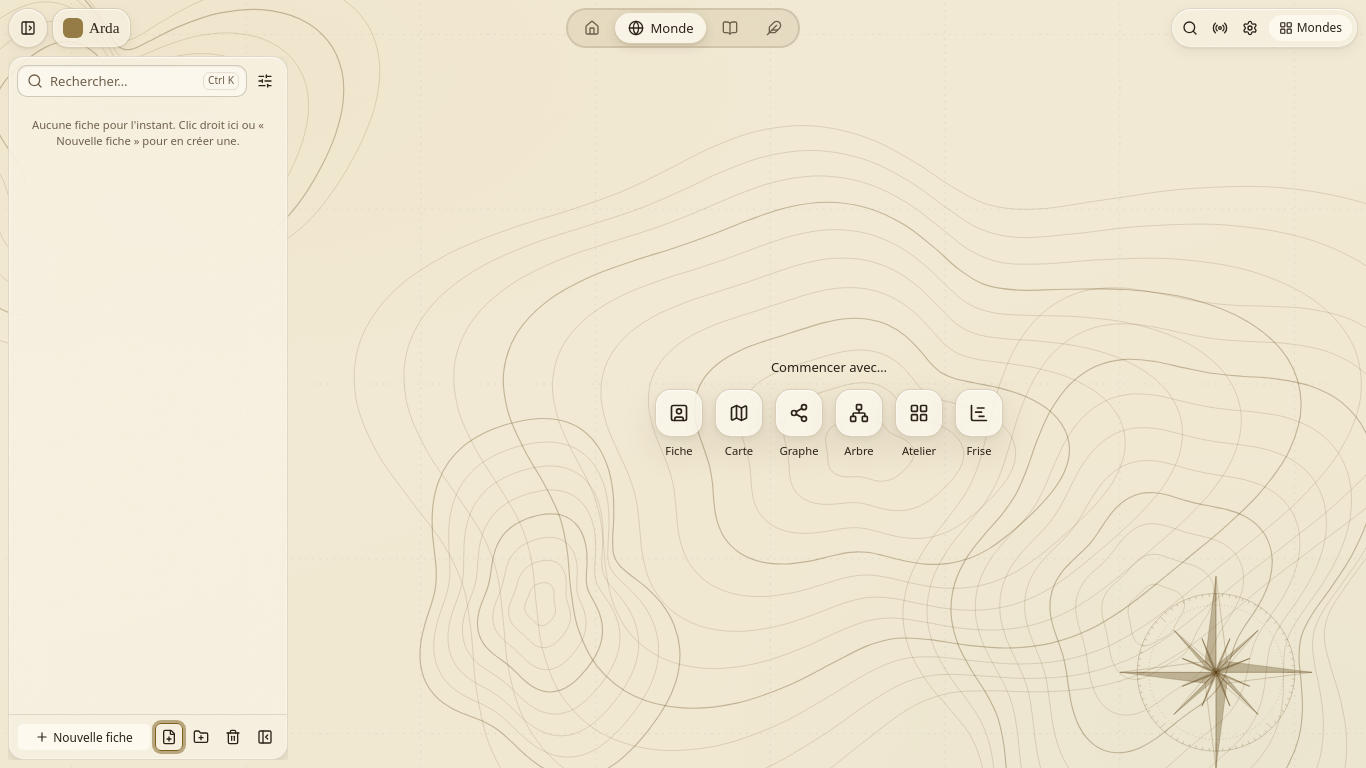
Test case: a map that cannot be created says so, and shows the reason (#200)
Press Enter in the button named "Nouveau document (carte, graphe, arbre, atelier, frise…)", box [155, 723, 183, 751]
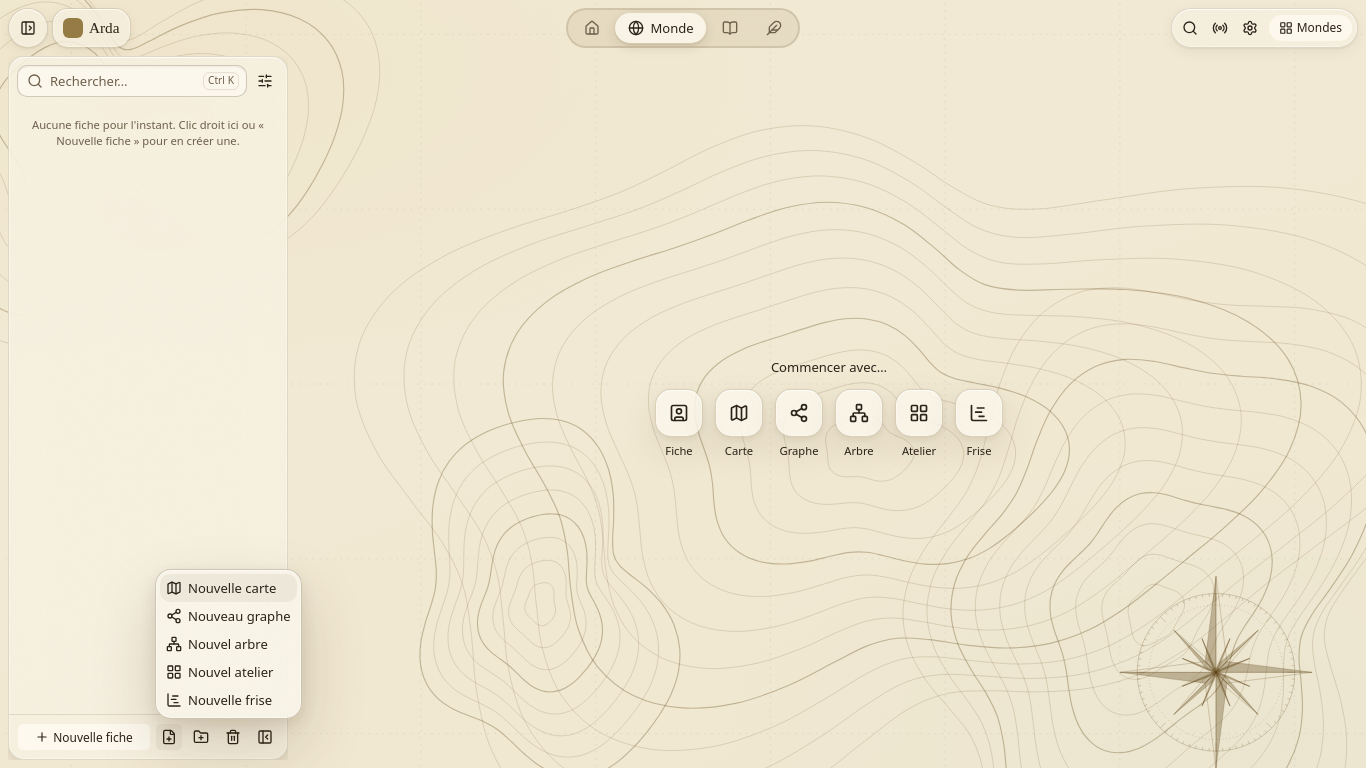
Click the menu item "Nouvelle carte" at (228, 588), box [160, 574, 297, 602]
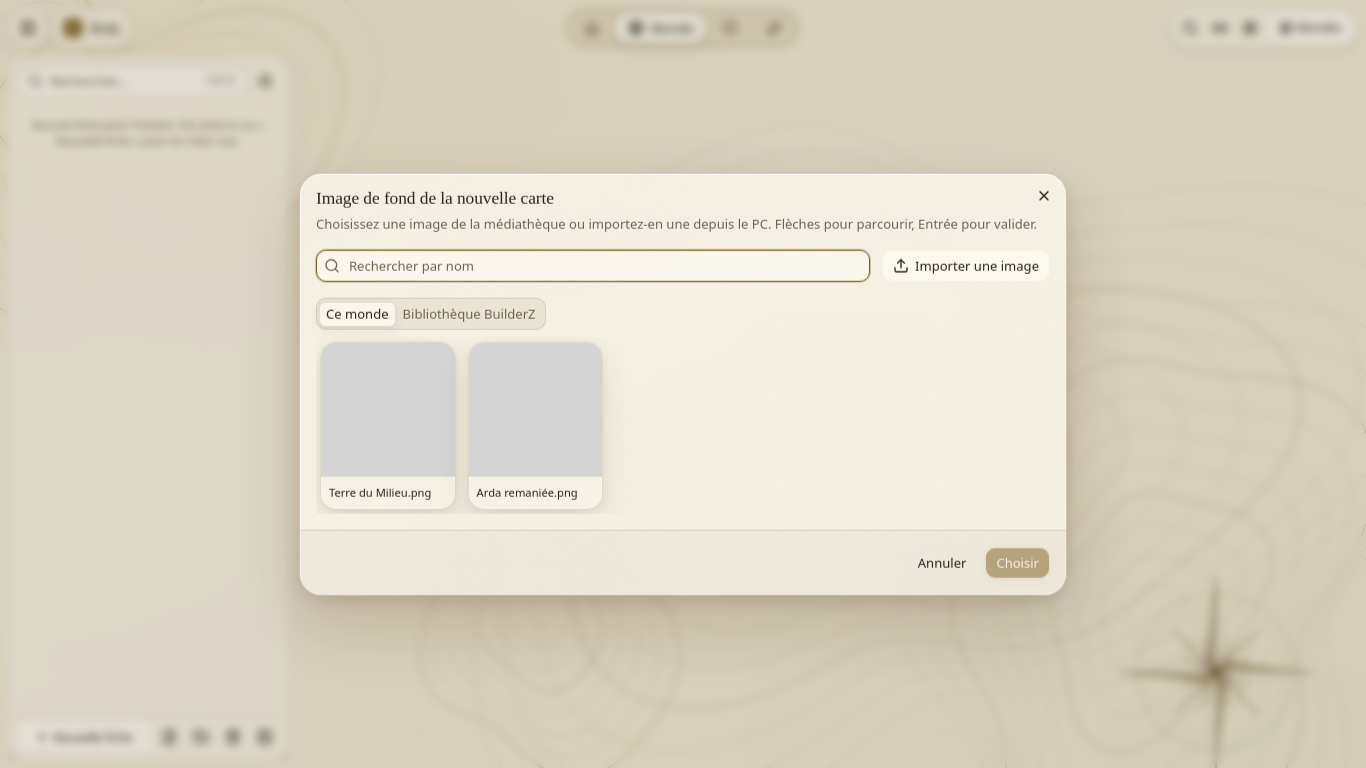
Click the option "Terre du Milieu.png" at (388, 426), box [320, 342, 456, 509]
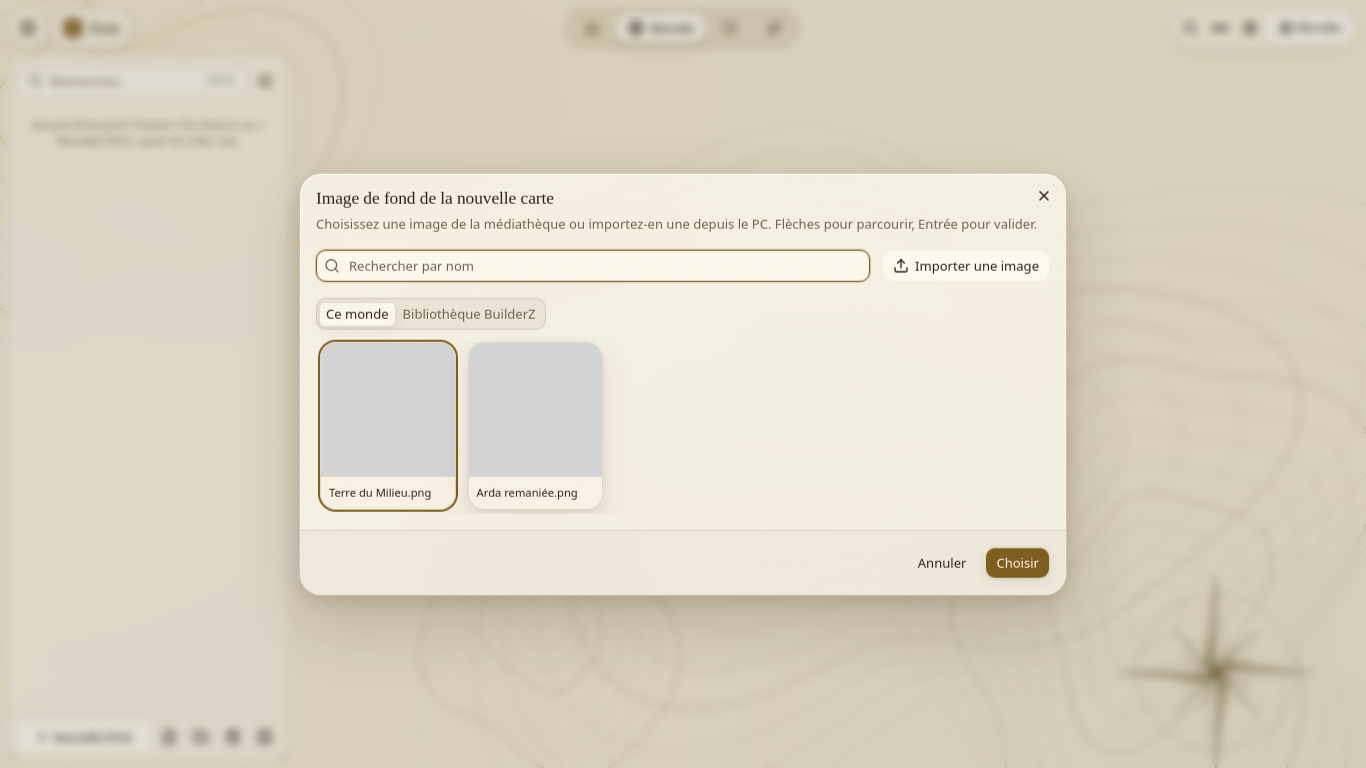
Click the button "Choisir" at (1018, 562), box [985, 546, 1050, 578]
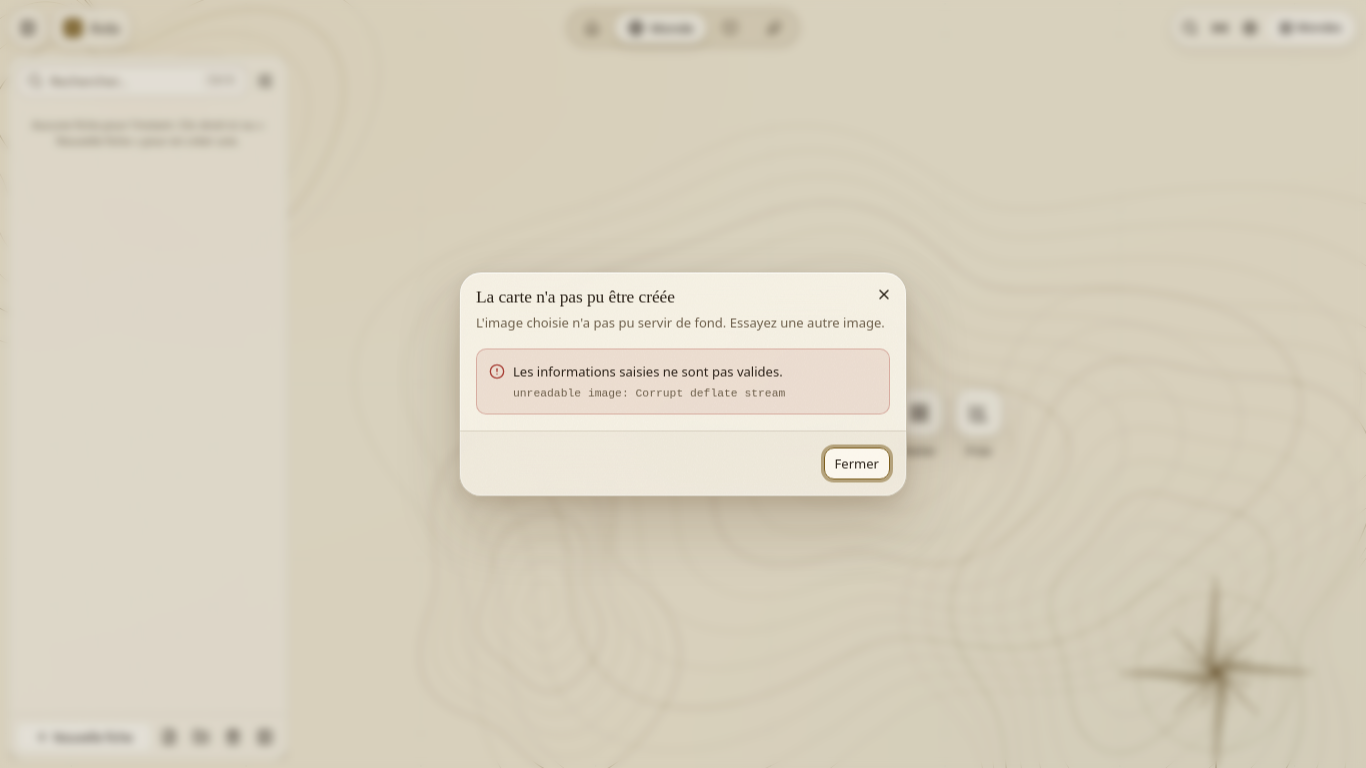
Expected: the dialog "La carte n'a pas pu être créée" shows "Corrupt deflate stream", [513, 388, 785, 400]
Click the button named "Fermer" at (884, 294), box [870, 280, 898, 308]
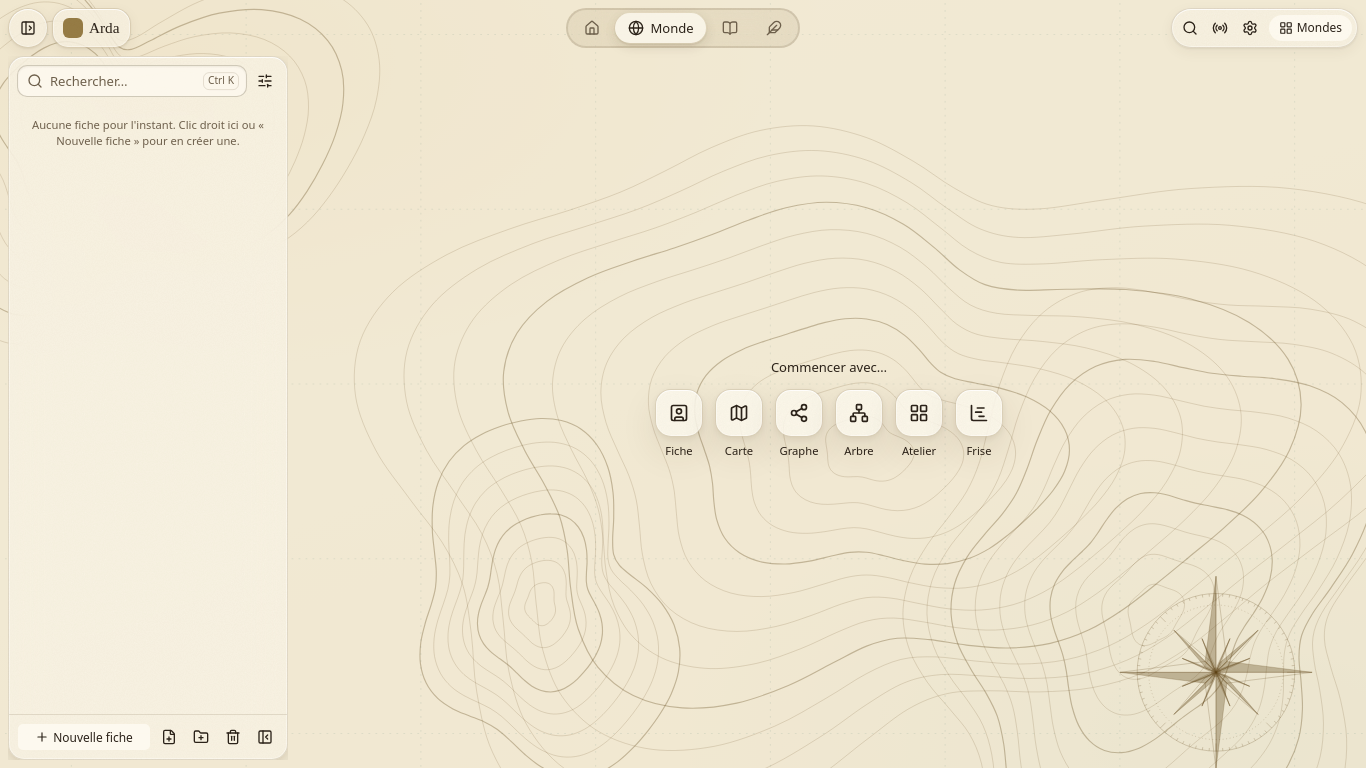
Expected: the heading "La carte n'a pas pu être créée" is gone
